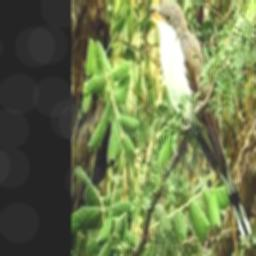Cuckoo: (146, 0, 252, 237)
